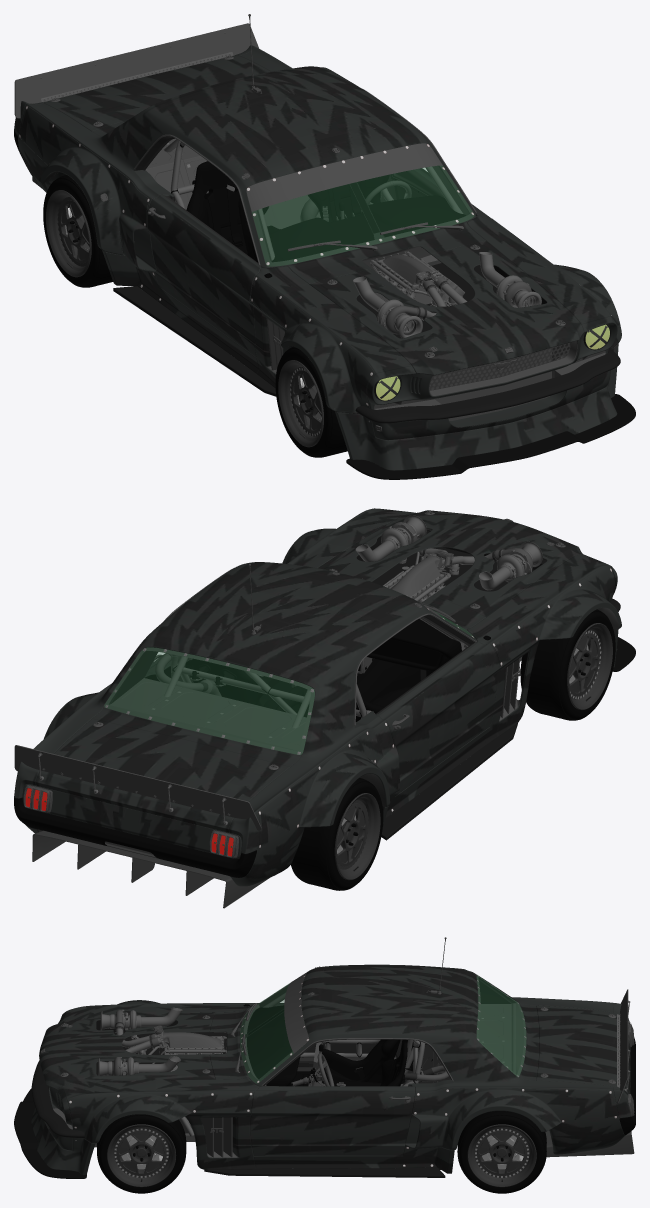
File: hoonicorn.glb
The picture shows the model from 3 angles, top to bottom: view 1: azimuth 30°, elevation 25°; view 2: azimuth 150°, elevation 25°; view 3: azimuth 270°, elevation 25°; orthographic projection. The views are drawn at different scales.
Parts seen in each view (by area): view 1: Hoonicorn-Body_0_5_8, Hoonicorn- Wheel.Bk.R_8_66_122, Hoonicorn- Wheel.Ft.R_4_48_90; view 2: Hoonicorn-Body_0_5_8, Hoonicorn- Wheel.Ft.R_4_48_90, Hoonicorn- Wheel.Bk.R_8_66_122; view 3: Hoonicorn-Body_0_5_8, Hoonicorn- Wheel.Bk.L_6_57_106, Hoonicorn- Wheel.Ft.L_2_39_74.
Boxes of the visible parts, bbox=[...] form: Hoonicorn-Body_0_5_8: bbox=[14, 14, 635, 479]; Hoonicorn- Wheel.Bk.R_8_66_122: bbox=[43, 175, 113, 287]; Hoonicorn- Wheel.Ft.R_4_48_90: bbox=[275, 346, 347, 457]; Hoonicorn-Body_0_5_8: bbox=[14, 508, 635, 908]; Hoonicorn- Wheel.Ft.R_4_48_90: bbox=[520, 609, 615, 720]; Hoonicorn- Wheel.Bk.R_8_66_122: bbox=[291, 778, 383, 890]; Hoonicorn-Body_0_5_8: bbox=[14, 937, 635, 1178]; Hoonicorn- Wheel.Bk.L_6_57_106: bbox=[457, 1111, 546, 1193]; Hoonicorn- Wheel.Ft.L_2_39_74: bbox=[97, 1114, 186, 1193].
Bounding box in the file's own units: 5.41 × 4.64 × 12.81.
Materials: 20 (3 with a texture image).
